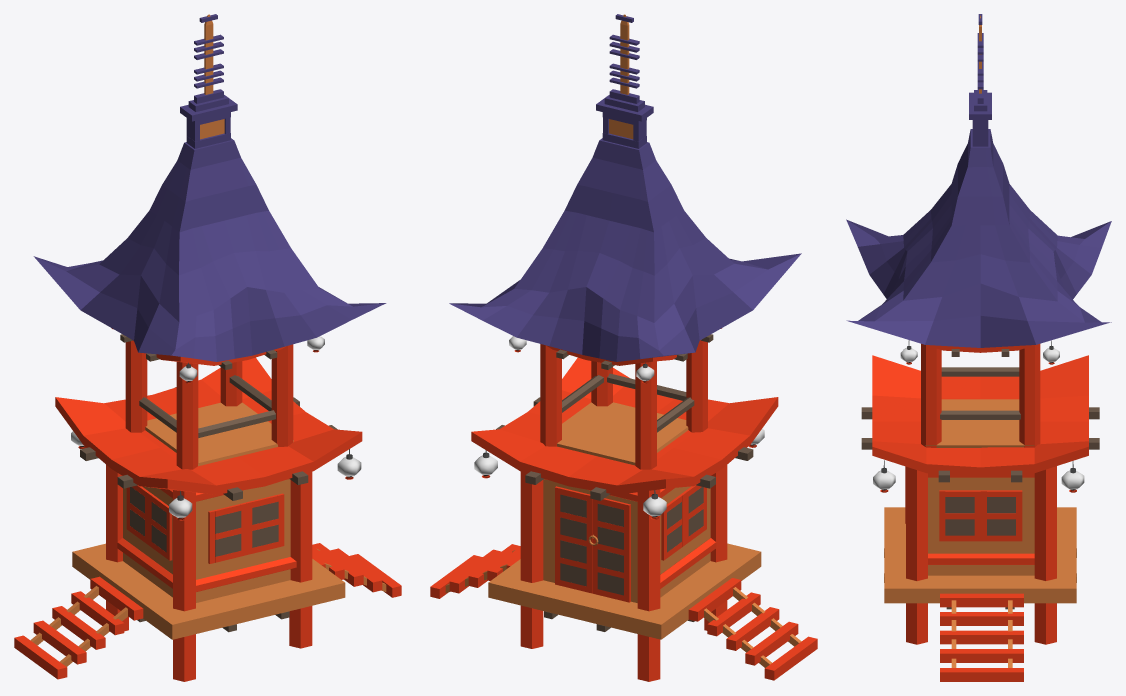
The model's file is TowerEnnemy.fbx.
The picture shows the model from 3 angles, left to right: view 1: azimuth 30°, elevation 25°; view 2: azimuth 150°, elevation 25°; view 3: azimuth 270°, elevation 25°; orthographic projection. The views are drawn at different scales.
Visible parts, largest first — view 1: Tower Ennemy; view 2: Tower Ennemy; view 3: Tower Ennemy.
Part boxes in pixels (bbox=[...]): Tower Ennemy: bbox=[14, 14, 401, 681]; Tower Ennemy: bbox=[430, 14, 817, 681]; Tower Ennemy: bbox=[846, 14, 1111, 681].
Size of the model in its own units: 1767 by 3059 by 1228.
